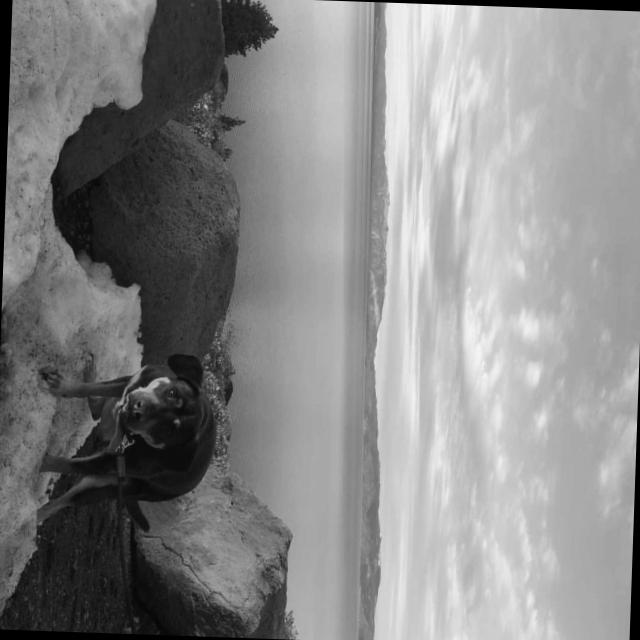squatting: (29, 333, 228, 549)
